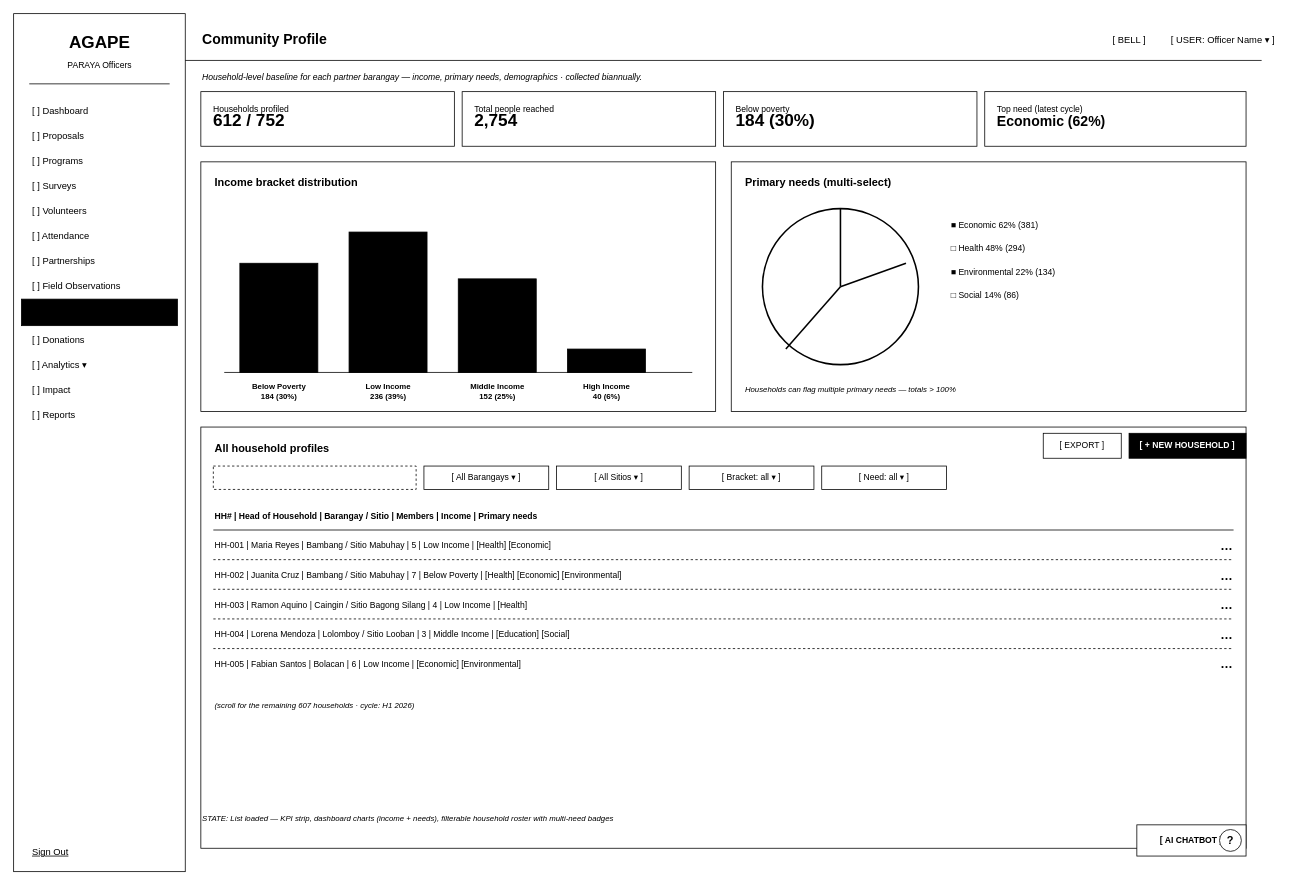
Image size: 1307x885. Some labels were removed from this diagram. Here are the shapes that lost their labels. From the top down, the centre of each, then its label:
the point at 99,312: [x] Community Profile
the point at 314,477: 🔍 Search head of household…
